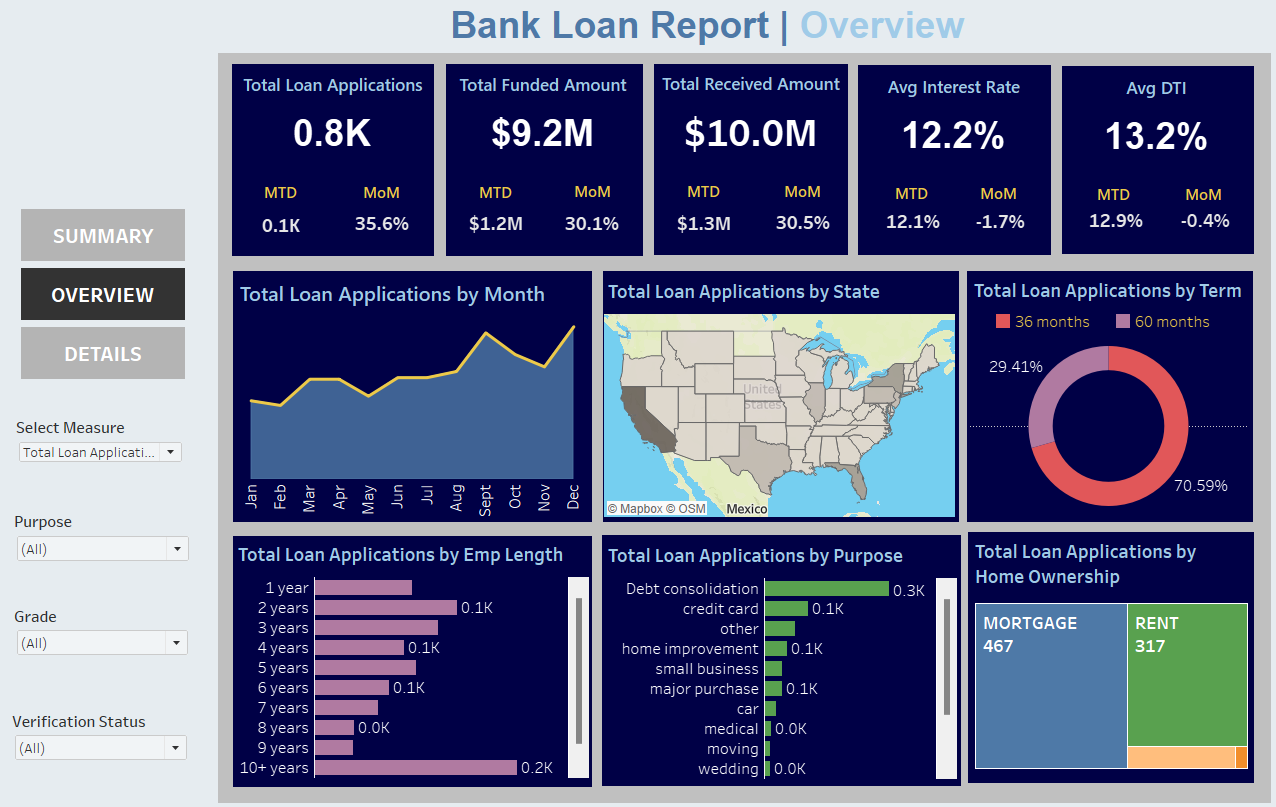

What the dashboard file says about the page in this screenshot:
{"tool":"tableau","page":{"name":"OVERVIEW","canvas":[1600,900],"ordinal":1},"visuals":[{"type":"text","box":[451,7,541,47]},{"type":"worksheet","title":"Total Received Amount","mark":"Automatic","box":[661,73,188,88]},{"type":"worksheet","title":"Total Loan Applications","mark":"Automatic","box":[240,74,194,93]},{"type":"worksheet","title":"Total Funded Amount","mark":"Automatic","box":[453,74,188,93]},{"type":"worksheet","title":"Avg Interest Rate","mark":"Automatic","box":[865,76,186,92]},{"type":"worksheet","title":"Avg DTI","mark":"Automatic","box":[1082,77,157,93]},{"type":"text","box":[566,181,61,30]},{"type":"text","box":[677,181,61,30]},{"type":"text","box":[776,181,61,30]},{"type":"text","box":[254,182,61,30]},{"type":"text","box":[355,182,61,30]},{"type":"text","box":[469,182,61,30]},{"type":"text","box":[885,183,61,30]},{"type":"text","box":[972,183,61,30]},{"type":"text","box":[1087,184,61,30]},{"type":"text","box":[1177,184,61,30]},{"type":"worksheet","title":"MoM Total Amount Received","mark":"Automatic","box":[774,202,67,50]},{"type":"worksheet","title":"MTD Avg DTI","mark":"Automatic","box":[1088,202,64,46]},{"type":"worksheet","title":"MTD Avg Interest Rate","mark":"Automatic","box":[876,203,83,46]},{"type":"worksheet","title":"MTD Total Loan Applications","mark":"Automatic","box":[240,204,91,52]},{"type":"worksheet","title":"MTD Total Amount Received","mark":"Automatic","box":[670,205,78,46]},{"type":"worksheet","title":"MoM Avg DTI","mark":"Automatic","box":[1177,205,65,41]},{"type":"worksheet","title":"MoM Avg Interest Rate","mark":"Automatic","box":[974,206,62,41]},{"type":"worksheet","title":"MoM Total Loan Applications","mark":"Automatic","box":[351,207,71,42]},{"type":"worksheet","title":"MTD Total Funded Amount","mark":"Automatic","box":[462,209,77,39]},{"type":"worksheet","title":"MoM Total Funded Amount","mark":"Automatic","box":[562,210,69,36]},{"type":"dashboard-object","box":[25,214,164,52]},{"type":"dashboard-object","box":[25,273,164,52]},{"type":"worksheet","title":"Term","mark":"Pie","rows":["Calculation_1330250775481610242","Calculation_1330250775481610242"],"box":[974,278,277,241]},{"type":"worksheet","title":"State","mark":"Multipolygon","box":[608,279,351,243]},{"type":"worksheet","title":"Month","mark":"Area","rows":["Calculation_108086426568060941","Calculation_108086426568060941"],"cols":["issue_date"],"box":[240,280,352,244]},{"type":"legend","title":"Term","param":"[federated.19yf0wd0rd5e221dhp3870jd0gmx].[none:term:nk]","box":[997,316,256,26]},{"type":"dashboard-object","box":[25,332,164,52]},{"type":"parameter","param":"[Parameters].[Parameter 1]","box":[20,422,169,48]},{"type":"filter","title":"Avg DTI","param":"[federated.19yf0wd0rd5e221dhp3870jd0gmx].[none:purpose:nk]","box":[18,516,178,59]},{"type":"worksheet","title":"Home Own","mark":"Automatic","box":[975,539,280,247]},{"type":"worksheet","title":"Emp Length","mark":"Automatic","rows":["emp_length"],"cols":["Calculation_108086426568060941"],"box":[238,542,355,241]},{"type":"worksheet","title":"Purpose","mark":"Automatic","rows":["purpose"],"cols":["Calculation_108086426568060941"],"box":[608,543,353,241]},{"type":"filter","title":"Avg DTI","param":"[federated.19yf0wd0rd5e221dhp3870jd0gmx].[none:grade:nk]","box":[18,611,177,52]},{"type":"filter","title":"Avg DTI","param":"[federated.19yf0wd0rd5e221dhp3870jd0gmx].[none:verification_status:nk]","box":[16,716,178,52]}]}

Visuals, with their boxes on the page's 1600x900 design canvas (x1, y1, x2, y2). These are canvas units, not pixel positions in the 1276x807 screenshot, which may show the page scaled, cropped or inside an application window:
text: <box>451,7,992,54</box>
"Total Received Amount" worksheet: <box>661,73,849,161</box>
"Total Loan Applications" worksheet: <box>240,74,434,167</box>
"Total Funded Amount" worksheet: <box>453,74,641,167</box>
"Avg Interest Rate" worksheet: <box>865,76,1051,168</box>
"Avg DTI" worksheet: <box>1082,77,1239,170</box>
text: <box>566,181,627,211</box>
text: <box>677,181,738,211</box>
text: <box>776,181,837,211</box>
text: <box>254,182,315,212</box>
text: <box>355,182,416,212</box>
text: <box>469,182,530,212</box>
text: <box>885,183,946,213</box>
text: <box>972,183,1033,213</box>
text: <box>1087,184,1148,214</box>
text: <box>1177,184,1238,214</box>
"MoM Total Amount Received" worksheet: <box>774,202,841,252</box>
"MTD Avg DTI" worksheet: <box>1088,202,1152,248</box>
"MTD Avg Interest Rate" worksheet: <box>876,203,959,249</box>
"MTD Total Loan Applications" worksheet: <box>240,204,331,256</box>
"MTD Total Amount Received" worksheet: <box>670,205,748,251</box>
"MoM Avg DTI" worksheet: <box>1177,205,1242,246</box>
"MoM Avg Interest Rate" worksheet: <box>974,206,1036,247</box>
"MoM Total Loan Applications" worksheet: <box>351,207,422,249</box>
"MTD Total Funded Amount" worksheet: <box>462,209,539,248</box>
"MoM Total Funded Amount" worksheet: <box>562,210,631,246</box>
dashboard-object: <box>25,214,189,266</box>
dashboard-object: <box>25,273,189,325</box>
"Term" worksheet (Pie marks): <box>974,278,1251,519</box>
"State" worksheet (Multipolygon marks): <box>608,279,959,522</box>
"Month" worksheet (Area marks): <box>240,280,592,524</box>
"Term" legend: <box>997,316,1253,342</box>
dashboard-object: <box>25,332,189,384</box>
parameter: <box>20,422,189,470</box>
"Avg DTI" filter: <box>18,516,196,575</box>
"Home Own" worksheet: <box>975,539,1255,786</box>
"Emp Length" worksheet: <box>238,542,593,783</box>
"Purpose" worksheet: <box>608,543,961,784</box>
"Avg DTI" filter: <box>18,611,195,663</box>
"Avg DTI" filter: <box>16,716,194,768</box>
